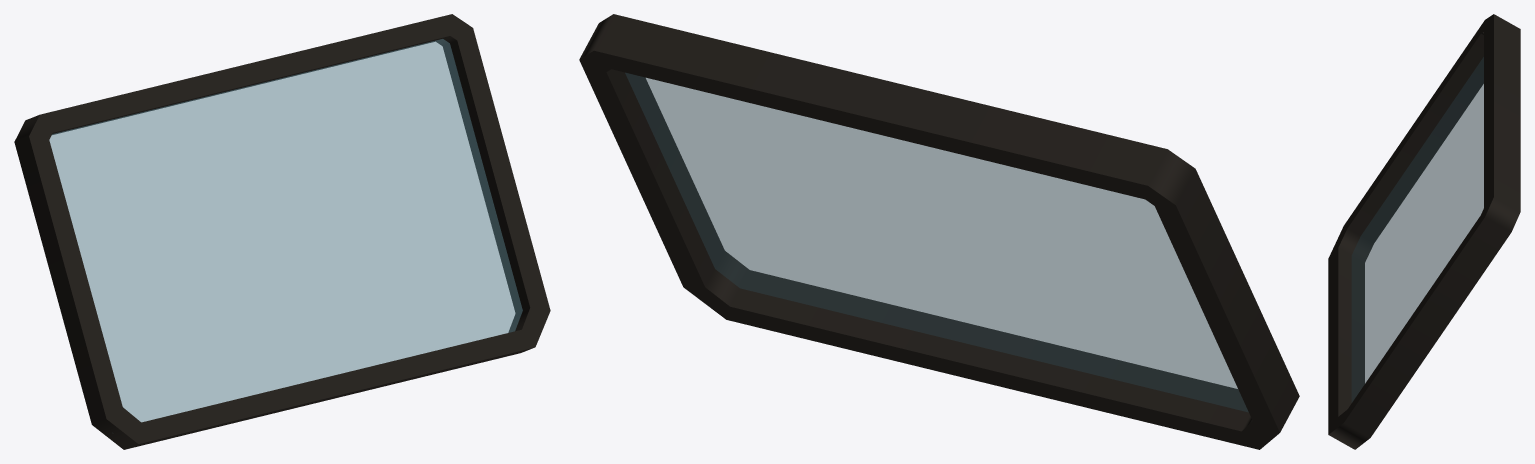
Rendered from Charging_Station_06_Cap.fbx.
The picture shows the model from 3 angles, left to right: view 1: azimuth 30°, elevation 25°; view 2: azimuth 150°, elevation 25°; view 3: azimuth 270°, elevation 25°; orthographic projection. The views are drawn at different scales.
Parts seen in each view (by area): view 1: Scharging_Station_06_Cap; view 2: Scharging_Station_06_Cap; view 3: Scharging_Station_06_Cap.
Part boxes in pixels (x1,y1,x2,y2): Scharging_Station_06_Cap: [14, 14, 550, 449]; Scharging_Station_06_Cap: [579, 14, 1299, 449]; Scharging_Station_06_Cap: [1328, 14, 1520, 449].
Size of the model in its own units: 15.23 by 9.22 by 6.27.
